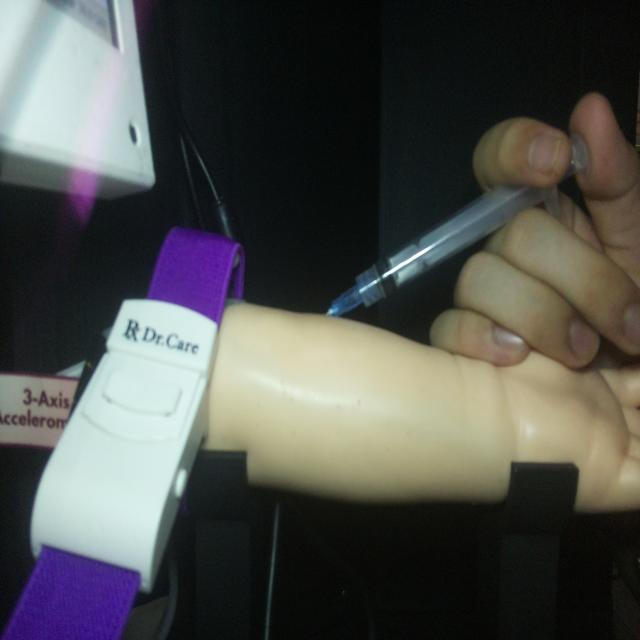26 degrees: (322, 130, 590, 320)
